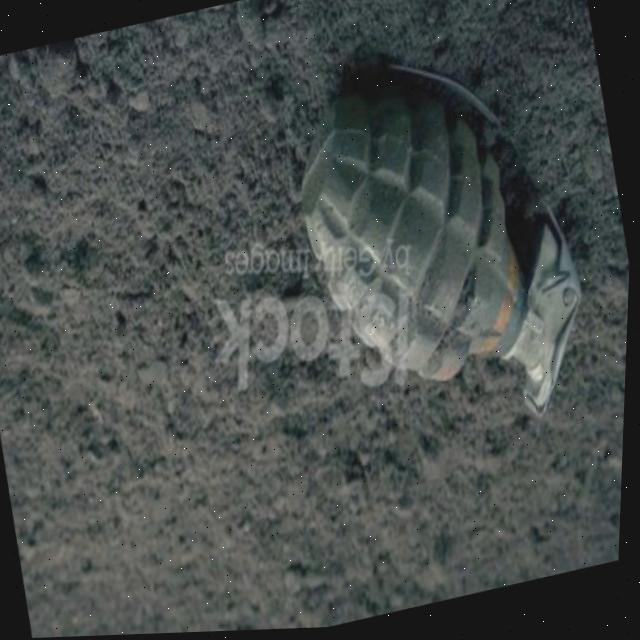grenade: (220, 0, 640, 500)
